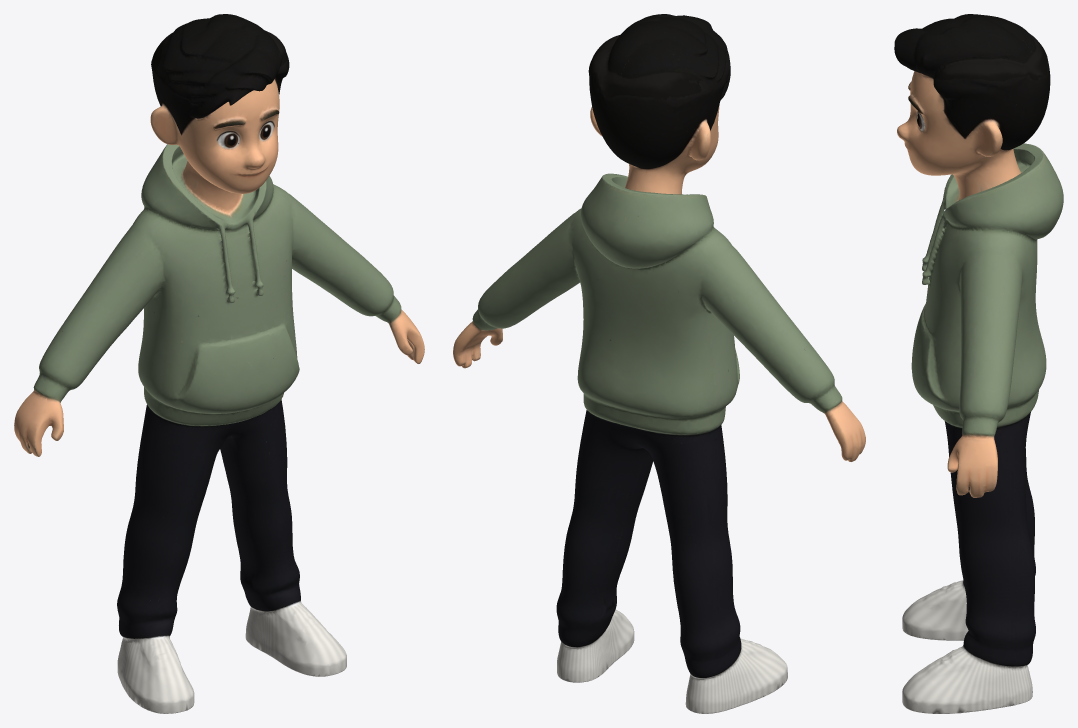
The model's file is jongwoo-hoodie-upload.fbx.
3 renders of one model, left to right at view 1: azimuth 30°, elevation 25°; view 2: azimuth 150°, elevation 25°; view 3: azimuth 270°, elevation 25°, orthographic.
Parts seen in each view (by area): view 1: JongwooHoodie; view 2: JongwooHoodie; view 3: JongwooHoodie.
Boxes of the visible parts, left/top/right/bottom form: JongwooHoodie: left=14, top=14, right=424, bottom=713; JongwooHoodie: left=453, top=14, right=865, bottom=713; JongwooHoodie: left=894, top=14, right=1063, bottom=713.
Size of the model in its own units: 122 by 190 by 45.03.
Materials: 1 (1 with a texture image).
